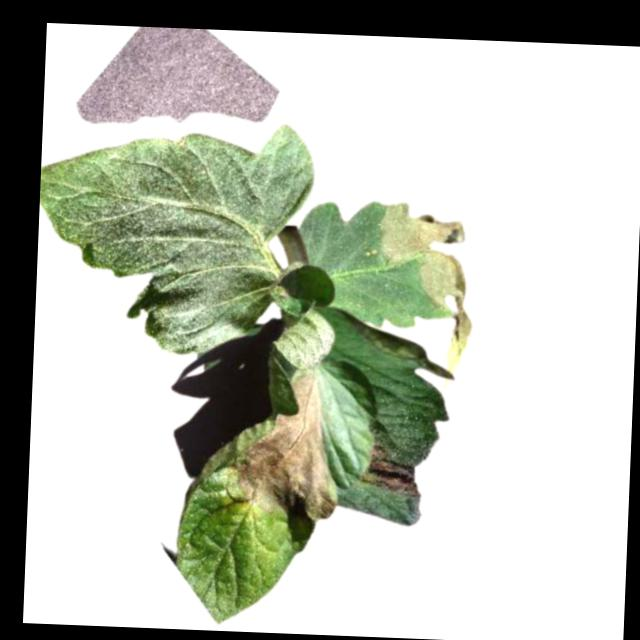Late_blight: (231, 371, 340, 521), (373, 201, 477, 347), (357, 443, 422, 498)
healthy: (34, 113, 317, 360)
